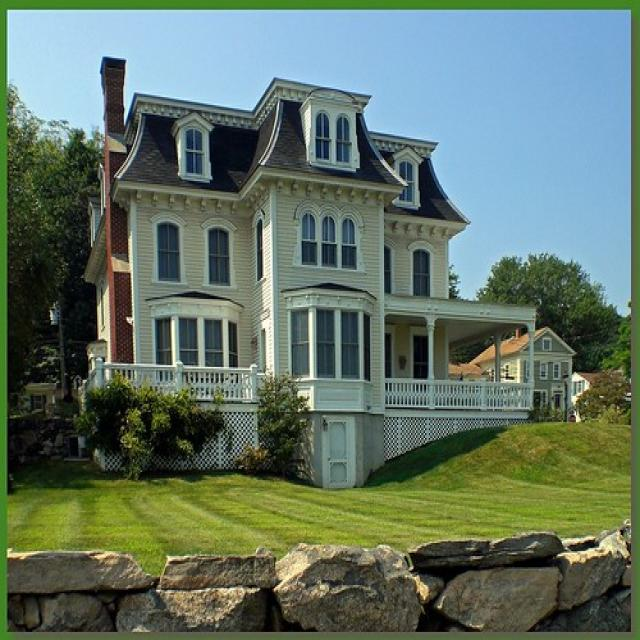Normal_building: (58, 56, 538, 495)
